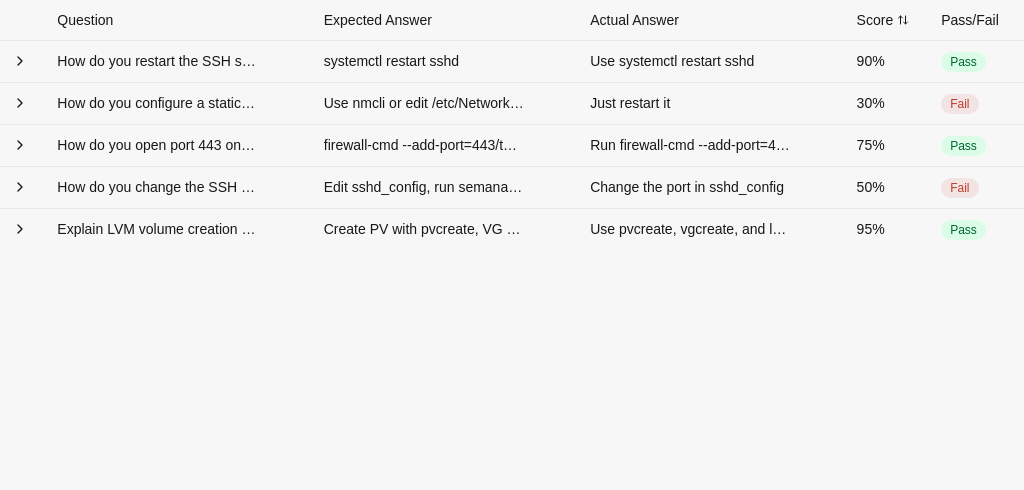
QAResultsTable › expands row on chevron click to show judge reasoning
Note: Click the first expand button
Click the button named "expand row" in the row of "Use systemctl restart sshd" at (20, 60), box [8,48,32,72]
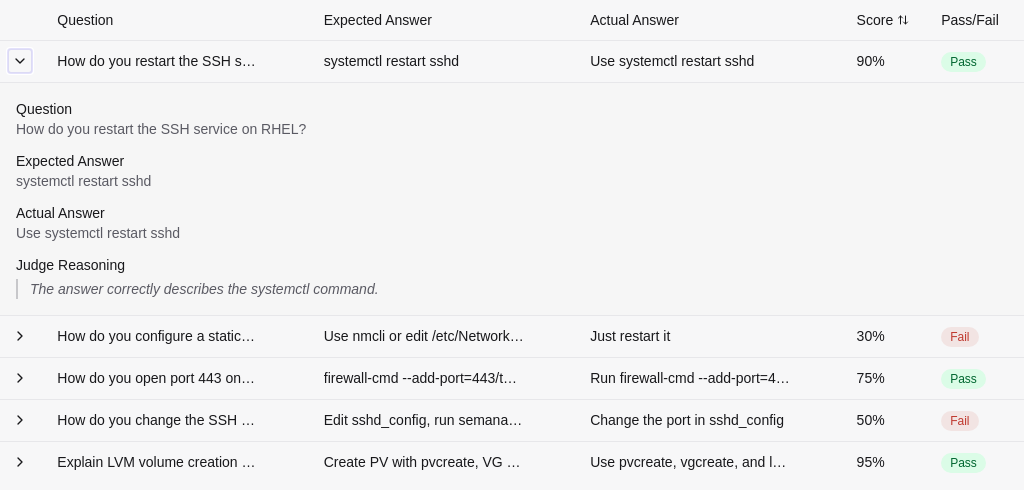
Check: the text "The answer correctly describes the systemctl command." is shown, box [16,278,1008,298]
